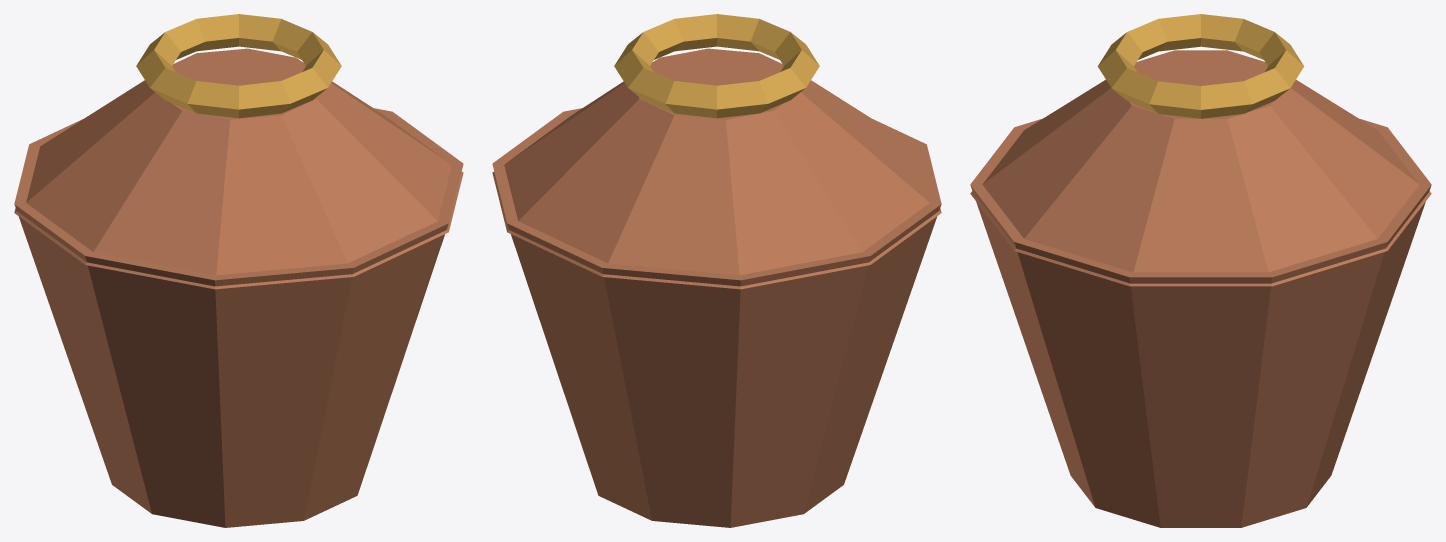
File: clay_vase.fbx
3 views of the same model, side by side, from view 1: azimuth 30°, elevation 25°; view 2: azimuth 150°, elevation 25°; view 3: azimuth 270°, elevation 25° (orthographic).
Visible parts, largest first — view 1: clay_vase.004; view 2: clay_vase.004; view 3: clay_vase.004.
Part boxes in pixels (x1=…): clay_vase.004: x1=14, y1=14, x2=463, y2=527; clay_vase.004: x1=492, y1=14, x2=941, y2=527; clay_vase.004: x1=970, y1=14, x2=1431, y2=527.
Size of the model in its own units: 43.75 by 46.8 by 46.
